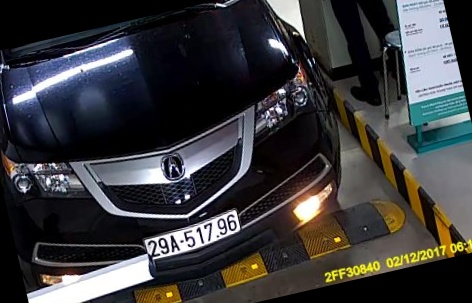plate: (131, 207, 237, 258)
